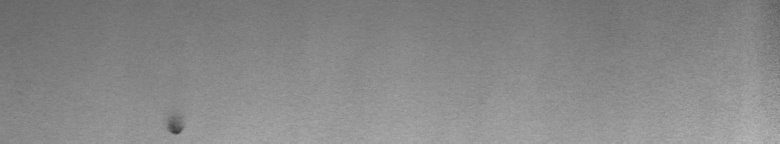fi: (164, 117, 188, 136)
